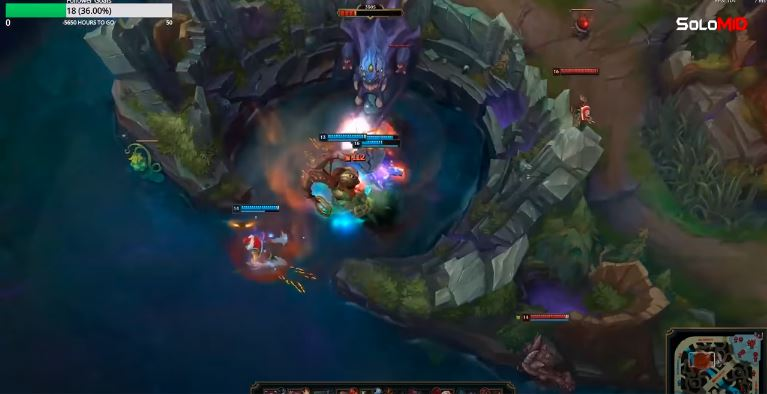bar: (552, 65, 602, 79), (230, 202, 281, 215), (522, 311, 572, 324), (344, 132, 398, 142), (317, 131, 370, 141), (352, 139, 401, 149)
